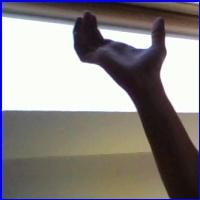space: (61, 7, 180, 85)
